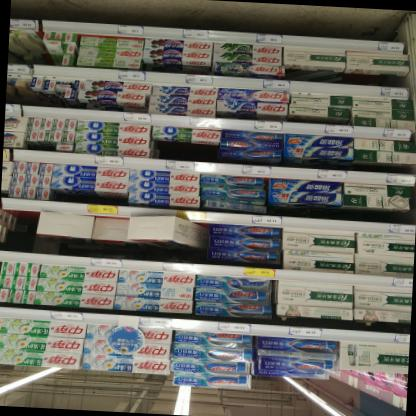empty_space: (1, 207, 36, 226)
